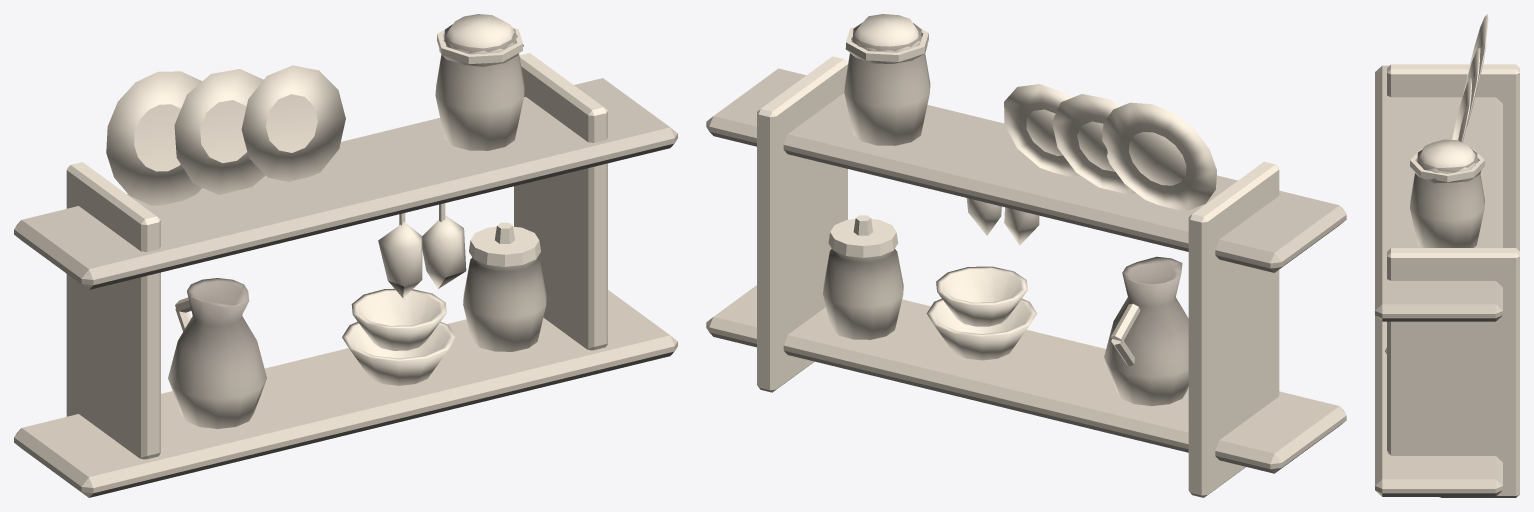
File: SM_VKI_Prop_Shelf_Wall_150.fbx
3 views of the same model, side by side, from view 1: azimuth 30°, elevation 25°; view 2: azimuth 150°, elevation 25°; view 3: azimuth 270°, elevation 25° (orthographic). The views are drawn at different scales.
Visible parts, largest first — view 1: SM_VKI_Prop_Shelf_Wall_150.001; view 2: SM_VKI_Prop_Shelf_Wall_150.001; view 3: SM_VKI_Prop_Shelf_Wall_150.001.
Boxes of the visible parts, x1=… form: SM_VKI_Prop_Shelf_Wall_150.001: x1=14, y1=14, x2=677, y2=497; SM_VKI_Prop_Shelf_Wall_150.001: x1=706, y1=14, x2=1346, y2=497; SM_VKI_Prop_Shelf_Wall_150.001: x1=1375, y1=14, x2=1519, y2=497.
Size of the model in its own units: 1.2 by 0.7289 by 0.3.
